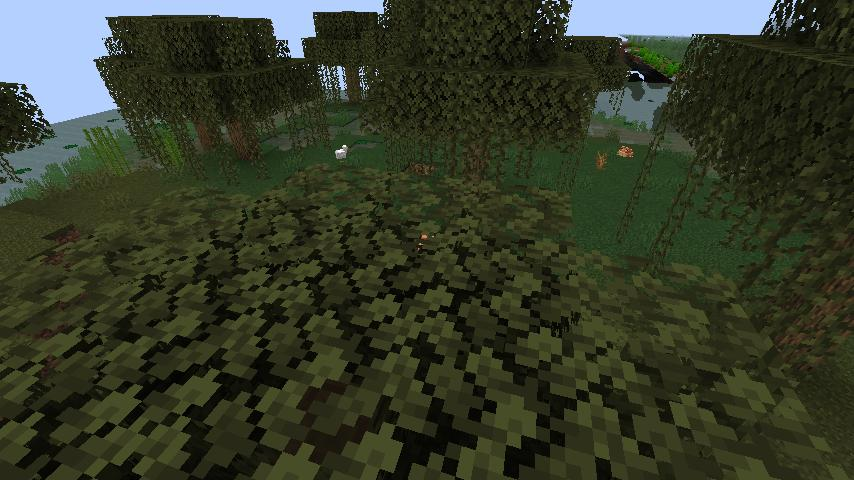chicken: (332, 142, 351, 166)
frog: (614, 143, 636, 161)
